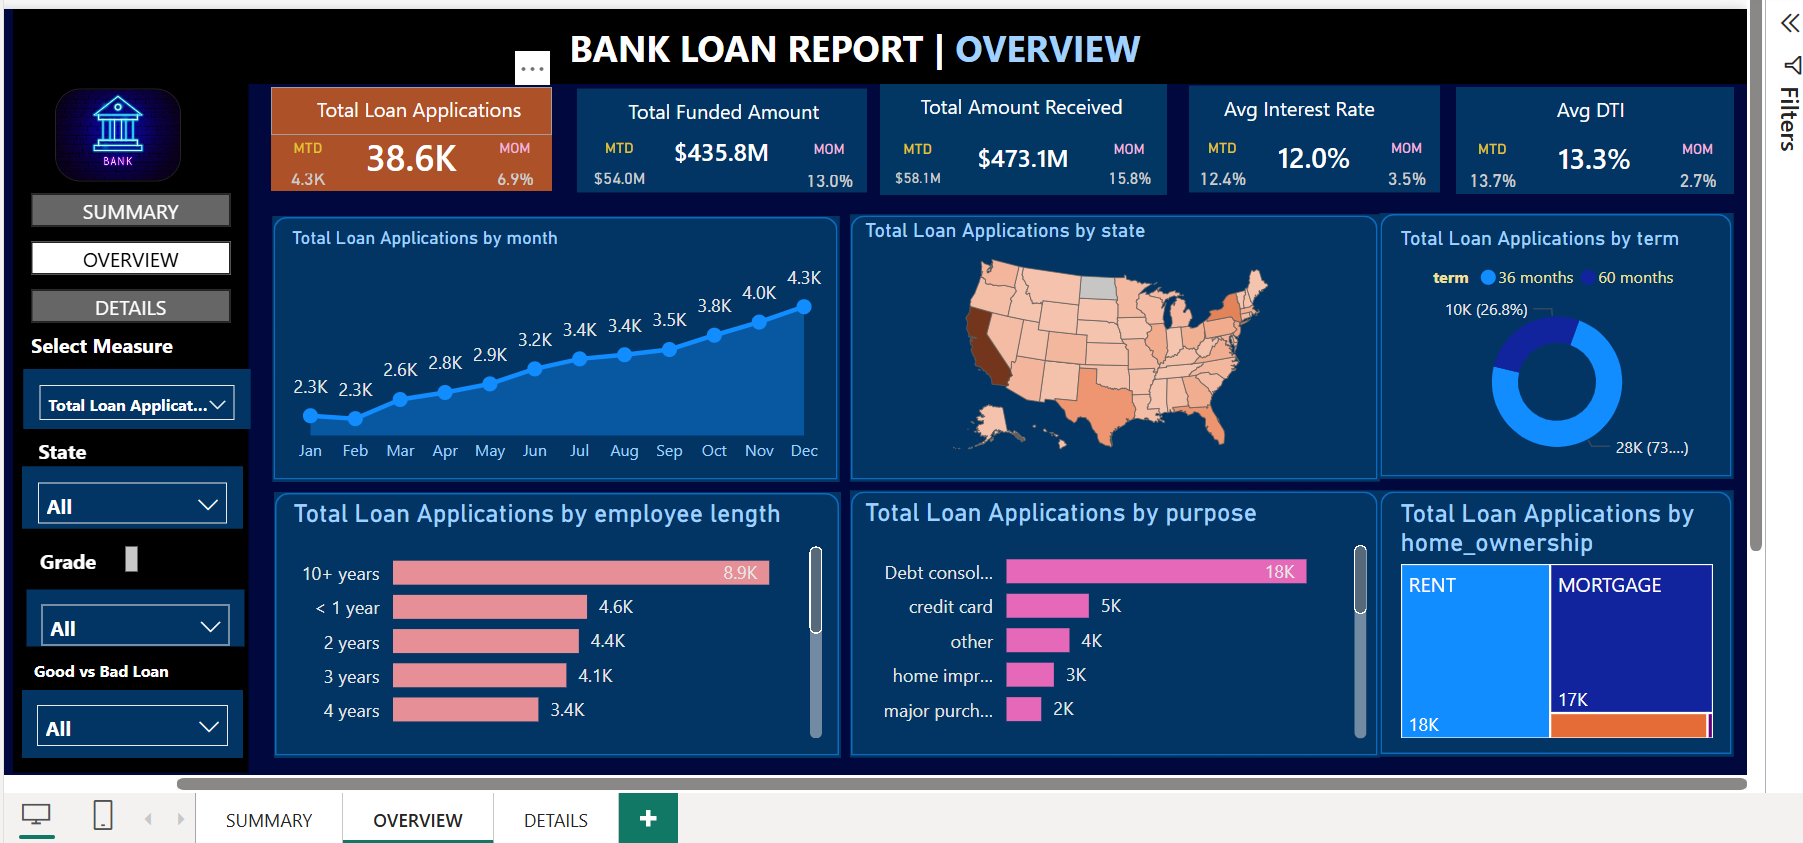

The page's visual inventory and layout, read from the dashboard file:
{"tool":"powerbi","page":{"name":"OVERVIEW","canvas":[1280,720],"ordinal":1},"visuals":[{"type":"shape","box":[124,50,157,459],"z":0},{"type":"shape","box":[124,0,1156,50],"z":1000},{"type":"textbox","box":[702,50,191,74],"z":1000,"group":"g2"},{"type":"textbox","box":[908,51,167,71],"z":1000,"group":"g3"},{"type":"textbox","box":[296,52,187,69],"z":1000,"group":"g1"},{"type":"textbox","box":[1086,52,185,71],"z":1000,"group":"g4"},{"type":"textbox","box":[500,53,193,69],"z":1000,"group":"g5"},{"type":"group","id":"g1","title":"Group 1","box":[296,52,187,69],"z":2000},{"type":"group","id":"g2","title":"Group 1","box":[702,50,191,74],"z":3000},{"type":"group","id":"g3","title":"Group 1","box":[908,51,167,71],"z":4000},{"type":"group","id":"g4","title":"Group 1","box":[1086,52,185,71],"z":5000},{"type":"card","fields":{"Values":["bank_loan_data.Total Amount Received"]},"box":[385,217,63,36],"z":6000},{"type":"textbox","box":[490,4,407,42],"z":7000},{"type":"card","fields":{"Values":["bank_loan_data.Total Funded Amount"]},"box":[549.1,76.8,93.9,40],"z":7000,"group":"g5"},{"type":"card","fields":{"Values":["bank_loan_data.Average Interest Reate"]},"box":[950.6,84,80.8,32],"z":7000,"group":"g3"},{"type":"card","fields":{"Values":["bank_loan_data.Total Loan Applications"]},"box":[343.7,84.1,90.4,31.1],"z":7000,"group":"g1"},{"type":"card","fields":{"Values":["bank_loan_data.Total Amount Received"]},"box":[750.7,84.4,92.4,33.4],"z":7000,"group":"g2"},{"type":"card","fields":{"Values":["bank_loan_data.Avg DTI"]},"box":[1133.2,85,89.5,32],"z":7000,"group":"g4"},{"type":"textbox","box":[702,50,191,34.4],"z":8000,"group":"g2"},{"type":"textbox","box":[908,51,167,33],"z":8000,"group":"g3"},{"type":"textbox","box":[296,52,187,32.1],"z":8000,"group":"g1"},{"type":"textbox","box":[1086,52,185,33],"z":8000,"group":"g4"},{"type":"group","id":"g5","title":"Group 1","box":[500,53,193,69],"z":8000},{"type":"textbox","box":[500,53,193,32.1],"z":8000,"group":"g5"},{"type":"card","title":"MTD","fields":{"Values":["bank_loan_data.MTD Loan Applications"]},"box":[296,87,48.9,31.1],"z":9000,"group":"g1"},{"type":"card","title":"MTD","fields":{"Values":["bank_loan_data.MTD Funded Amount"]},"box":[500,87,55.5,32.1],"z":9000,"group":"g5"},{"type":"card","title":"MTD","fields":{"Values":["bank_loan_data.MTD Avg Int Rate"]},"box":[908,87,43.7,32],"z":9000,"group":"g3"},{"type":"card","title":"MTD","fields":{"Values":["bank_loan_data.MTD Total Amount Receive"]},"box":[702,87.5,49.9,33.4],"z":9000,"group":"g2"},{"type":"card","title":"MTD","fields":{"Values":["bank_loan_data.MTD Avg DTI"]},"box":[1086,88,48.4,32],"z":9000,"group":"g4"},{"type":"shape","box":[297,138,378,177],"z":9000},{"type":"card","title":"MOM","fields":{"Values":["bank_loan_data.MOM Loan Applications"]},"box":[434.1,87,48.9,31.1],"z":10000,"group":"g1"},{"type":"card","title":"MOM","fields":{"Values":["bank_loan_data.MOM Avg Int Rate"]},"box":[1031.3,87,43.7,32],"z":10000,"group":"g3"},{"type":"card","title":"MOM","fields":{"Values":["bank_loan_data.MOM Total amount Received"]},"box":[843.1,87.5,49.9,33.4],"z":10000,"group":"g2"},{"type":"card","title":"MOM","fields":{"Values":["bank_loan_data.MOM Total Funded amount"]},"box":[642.5,88,50.5,31.1],"z":10000,"group":"g5"},{"type":"card","title":"MOM","fields":{"Values":["bank_loan_data.MOM Avg DTI"]},"box":[1222.6,88,48.4,32],"z":10000,"group":"g4"},{"type":"slicer","fields":{"Values":["bank_loan_data.address_state"]},"box":[130,305,147,41],"z":10000},{"type":"slicer","fields":{"Values":["bank_loan_data.GoodLoan Vs BadLoan"]},"box":[130,454,147,45],"z":11000},{"type":"slicer","fields":{"Values":["bank_loan_data.grade"]},"box":[133,387,145,38],"z":12000},{"type":"textbox","box":[130,425,120,29],"z":13000},{"type":"textbox","box":[133,353,79,27],"z":14000},{"type":"textbox","box":[131,209,119,31],"z":15000},{"type":"areaChart","fields":{"Y":["bank_loan_data.Total Loan Applications"],"Category":["DateTable.month"]},"box":[305,145,363,166],"z":16000},{"type":"slicer","fields":{"Values":["Select Measure.Select Measure"]},"box":[131,240,151,40],"z":17000},{"type":"textbox","box":[136,280,77,30],"z":18000},{"type":"shape","box":[682,137,353,178],"z":19000},{"type":"shapeMap","title":"Total Loan Applications by state","fields":{"Value":["bank_loan_data.Total Loan Applications"],"Category":["bank_loan_data.address_state"]},"box":[687,140,337,165],"z":20000},{"type":"shape","box":[1035,136,236,177],"z":21000},{"type":"donutChart","fields":{"Y":["bank_loan_data.Total Loan Applications"],"Category":["bank_loan_data.term"]},"box":[1044,145,218,165],"z":22000},{"type":"shape","box":[298,322,378,177],"z":23000},{"type":"shape","box":[682,321,353,178],"z":24000},{"type":"shape","box":[1035,321,236,177],"z":25000},{"type":"barChart","title":"Total Loan Applications by employee length","fields":{"Y":["bank_loan_data.Total Loan Applications"],"Category":["bank_loan_data.emp_length"]},"box":[306,326,362,165],"z":26000},{"type":"barChart","fields":{"Y":["bank_loan_data.Total Loan Applications"],"Category":["bank_loan_data.purpose"]},"box":[687,325,344,166],"z":27000},{"type":"treemap","fields":{"Values":["bank_loan_data.Total Loan Applications"],"Group":["bank_loan_data.home_ownership"]},"box":[1044,326,218,165],"z":28000},{"type":"pageNavigator","box":[136,123,133,86],"z":29000},{"type":"image","box":[152,53,84,62],"z":30000}]}

Visuals, with their boxes on the page's 1280x720 design canvas (x1, y1, x2, y2). These are canvas units, not pixel positions in the 1803x843 screenshot, which may show the page scaled, cropped or inside an application window:
shape: 124:50:281:509
shape: 124:0:1280:50
textbox: 702:50:893:124
textbox: 908:51:1075:122
textbox: 296:52:483:121
textbox: 1086:52:1271:123
textbox: 500:53:693:122
"Group 1" group: 296:52:483:121
"Group 1" group: 702:50:893:124
"Group 1" group: 908:51:1075:122
"Group 1" group: 1086:52:1271:123
card - bank_loan_data.Total Amount Received: 385:217:448:253
textbox: 490:4:897:46
card - bank_loan_data.Total Funded Amount: 549:77:643:117
card - bank_loan_data.Average Interest Reate: 951:84:1031:116
card - bank_loan_data.Total Loan Applications: 344:84:434:115
card - bank_loan_data.Total Amount Received: 751:84:843:118
card - bank_loan_data.Avg DTI: 1133:85:1223:117
textbox: 702:50:893:84
textbox: 908:51:1075:84
textbox: 296:52:483:84
textbox: 1086:52:1271:85
"Group 1" group: 500:53:693:122
textbox: 500:53:693:85
"MTD" card: 296:87:345:118
"MTD" card: 500:87:556:119
"MTD" card: 908:87:952:119
"MTD" card: 702:88:752:121
"MTD" card: 1086:88:1134:120
shape: 297:138:675:315
"MOM" card: 434:87:483:118
"MOM" card: 1031:87:1075:119
"MOM" card: 843:88:893:121
"MOM" card: 642:88:693:119
"MOM" card: 1223:88:1271:120
slicer - bank_loan_data.address_state: 130:305:277:346
slicer - bank_loan_data.GoodLoan Vs BadLoan: 130:454:277:499
slicer - bank_loan_data.grade: 133:387:278:425
textbox: 130:425:250:454
textbox: 133:353:212:380
textbox: 131:209:250:240
areaChart - bank_loan_data.Total Loan Applications x DateTable.month: 305:145:668:311
slicer - Select Measure.Select Measure: 131:240:282:280
textbox: 136:280:213:310
shape: 682:137:1035:315
"Total Loan Applications by state" shapeMap: 687:140:1024:305
shape: 1035:136:1271:313
donutChart - bank_loan_data.Total Loan Applications x bank_loan_data.term: 1044:145:1262:310
shape: 298:322:676:499
shape: 682:321:1035:499
shape: 1035:321:1271:498
"Total Loan Applications by employee length" barChart: 306:326:668:491
barChart - bank_loan_data.Total Loan Applications x bank_loan_data.purpose: 687:325:1031:491
treemap - bank_loan_data.Total Loan Applications x bank_loan_data.home_ownership: 1044:326:1262:491
pageNavigator: 136:123:269:209
image: 152:53:236:115
